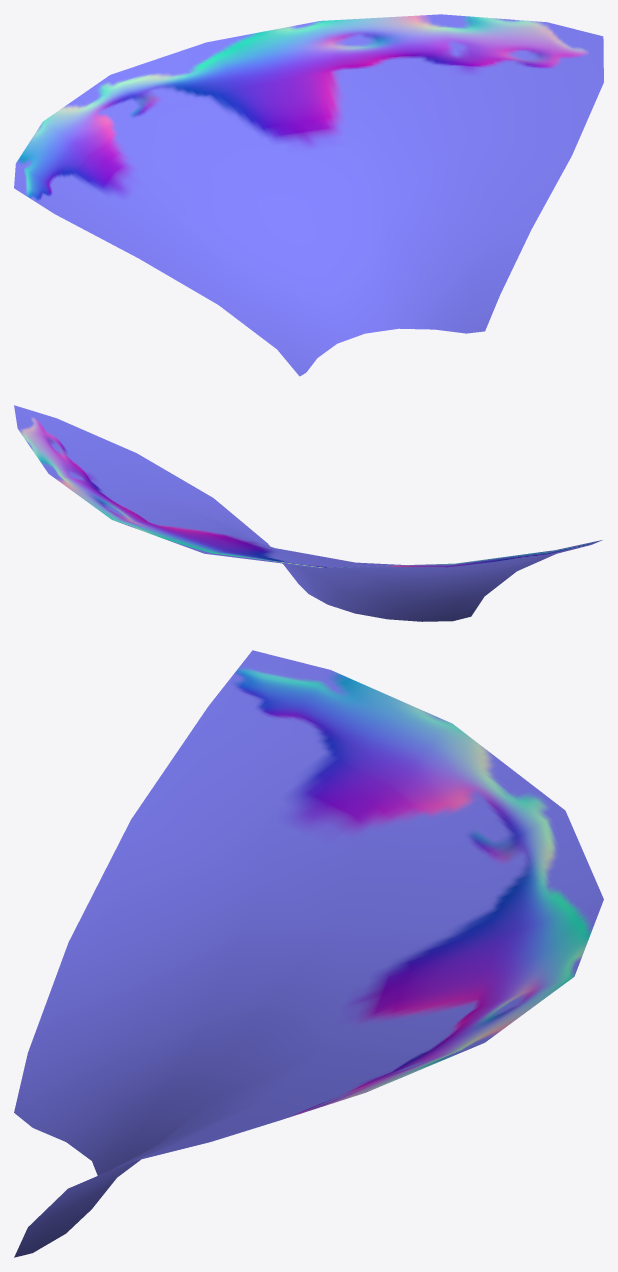
Rendered from p_mesh_trashbot_flowspray_splash02_pose0.fbx.
3 views of the same model, one above another, from view 1: azimuth 30°, elevation 25°; view 2: azimuth 150°, elevation 25°; view 3: azimuth 270°, elevation 25° (orthographic). The views are drawn at different scales.
Parts seen in each view (by area): view 1: splash02_pose0; view 2: splash02_pose0; view 3: splash02_pose0.
Boxes of the visible parts, box(x1,y1,x2,y2) form: splash02_pose0: box(14, 14, 603, 376); splash02_pose0: box(14, 405, 602, 621); splash02_pose0: box(14, 650, 603, 1257).
Bounding box in the file's own units: 17.88 × 5.43 × 9.52.
